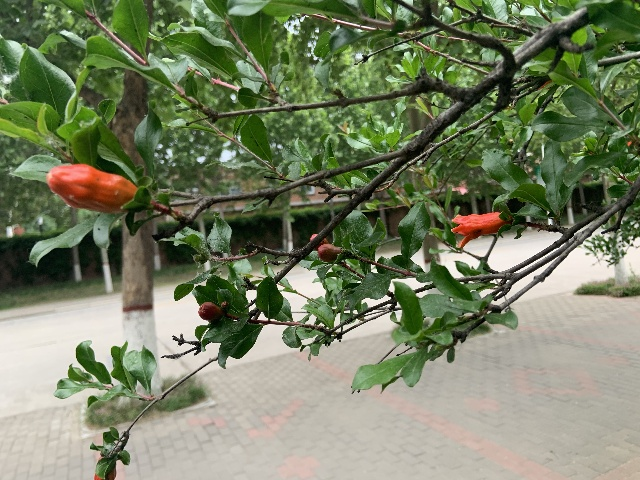bud: (46, 163, 136, 211), (94, 459, 117, 479), (198, 302, 221, 321), (317, 243, 340, 261), (309, 233, 328, 250), (221, 301, 229, 308)
flower: (450, 212, 511, 248)
